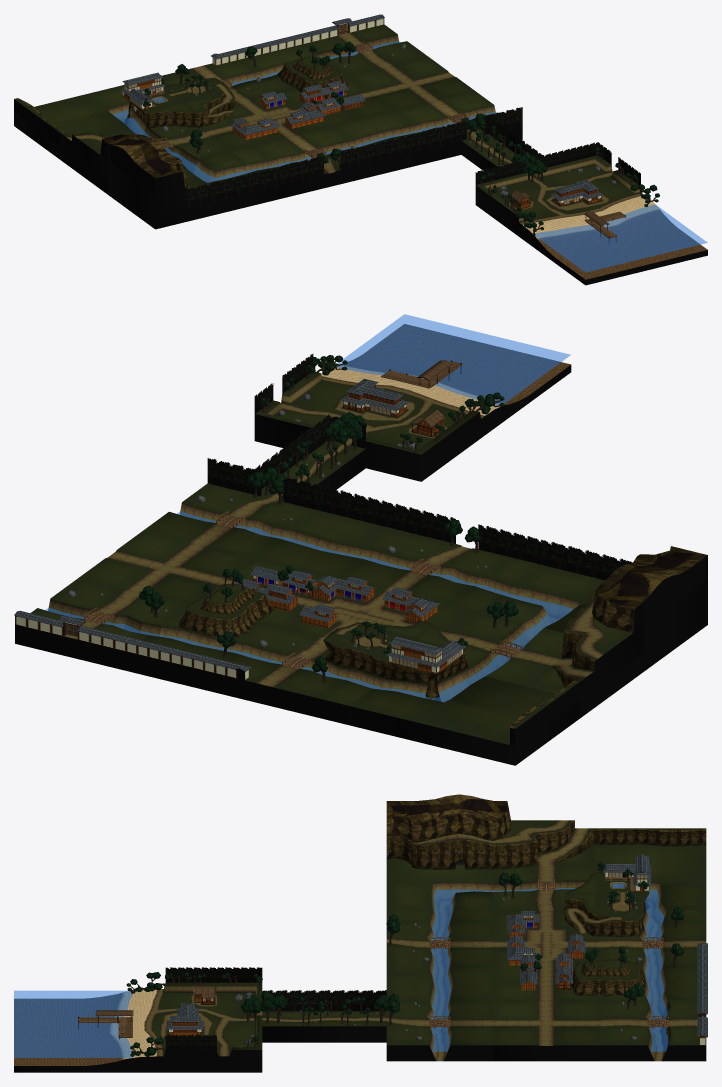
The model's file is island.fbx.
3 renders of one model, top to bottom at view 1: azimuth 30°, elevation 25°; view 2: azimuth 150°, elevation 25°; view 3: azimuth 270°, elevation 25°, orthographic. The views are drawn at different scales.
Visible parts, largest first — view 1: [water]_Plane.051, Plane.035, Plane.269, Plane.116, Plane.120, Plane.320, Plane.330, Plane.036, Plane.121, Plane.274, Plane.278, Plane.275 (+29 smaller); view 2: Plane.269, [water]_Plane.051, Plane.035, Plane.320, Plane.330, Plane.120, Plane.107, Plane.332, Plane.069, Plane.305, Plane.274, Plane.116 (+34 smaller); view 3: Plane.269, [water]_Plane.051, Plane.035, Plane.320, Plane.116, Plane.277, Plane.120, Plane.330, Plane.107, Plane.121, Plane.316, Plane.069 (+35 smaller).
Part boxes in pixels (x1,y1,x2,y2): [water]_Plane.051: (535, 204, 707, 272); Plane.035: (540, 212, 707, 279); Plane.269: (231, 111, 420, 173); Plane.116: (200, 76, 393, 150); Plane.120: (347, 56, 475, 110); Plane.320: (162, 44, 346, 103); Plane.330: (34, 85, 146, 135); Plane.036: (490, 165, 642, 223); Plane.121: (303, 24, 427, 76); Plane.274: (277, 127, 440, 185); Plane.278: (108, 181, 277, 229); Plane.275: (277, 145, 440, 199); Plane.269: (255, 510, 540, 611); [water]_Plane.051: (337, 314, 570, 406); Plane.035: (345, 324, 570, 404); Plane.320: (142, 607, 384, 705); Plane.330: (349, 671, 556, 744); Plane.120: (79, 530, 254, 604); Plane.107: (143, 483, 318, 557); Plane.332: (348, 682, 579, 765); Plane.069: (254, 365, 571, 481); Plane.305: (445, 612, 563, 686); Plane.274: (319, 485, 541, 564); Plane.116: (192, 557, 476, 638); Plane.269: (386, 910, 493, 1015); [water]_Plane.051: (14, 990, 132, 1057); Plane.035: (14, 994, 117, 1065); Plane.320: (599, 910, 706, 1015); Plane.116: (493, 910, 599, 1000); Plane.277: (386, 858, 493, 926); Plane.120: (493, 1000, 599, 1045); Plane.330: (599, 844, 706, 926); Plane.107: (386, 1000, 493, 1061); Plane.121: (599, 1000, 698, 1061); Plane.316: (386, 794, 493, 842); Plane.069: (14, 1050, 262, 1072).
Bounding box in the file's own units: 292 × 40 × 391.
36 materials, 34 textured.
